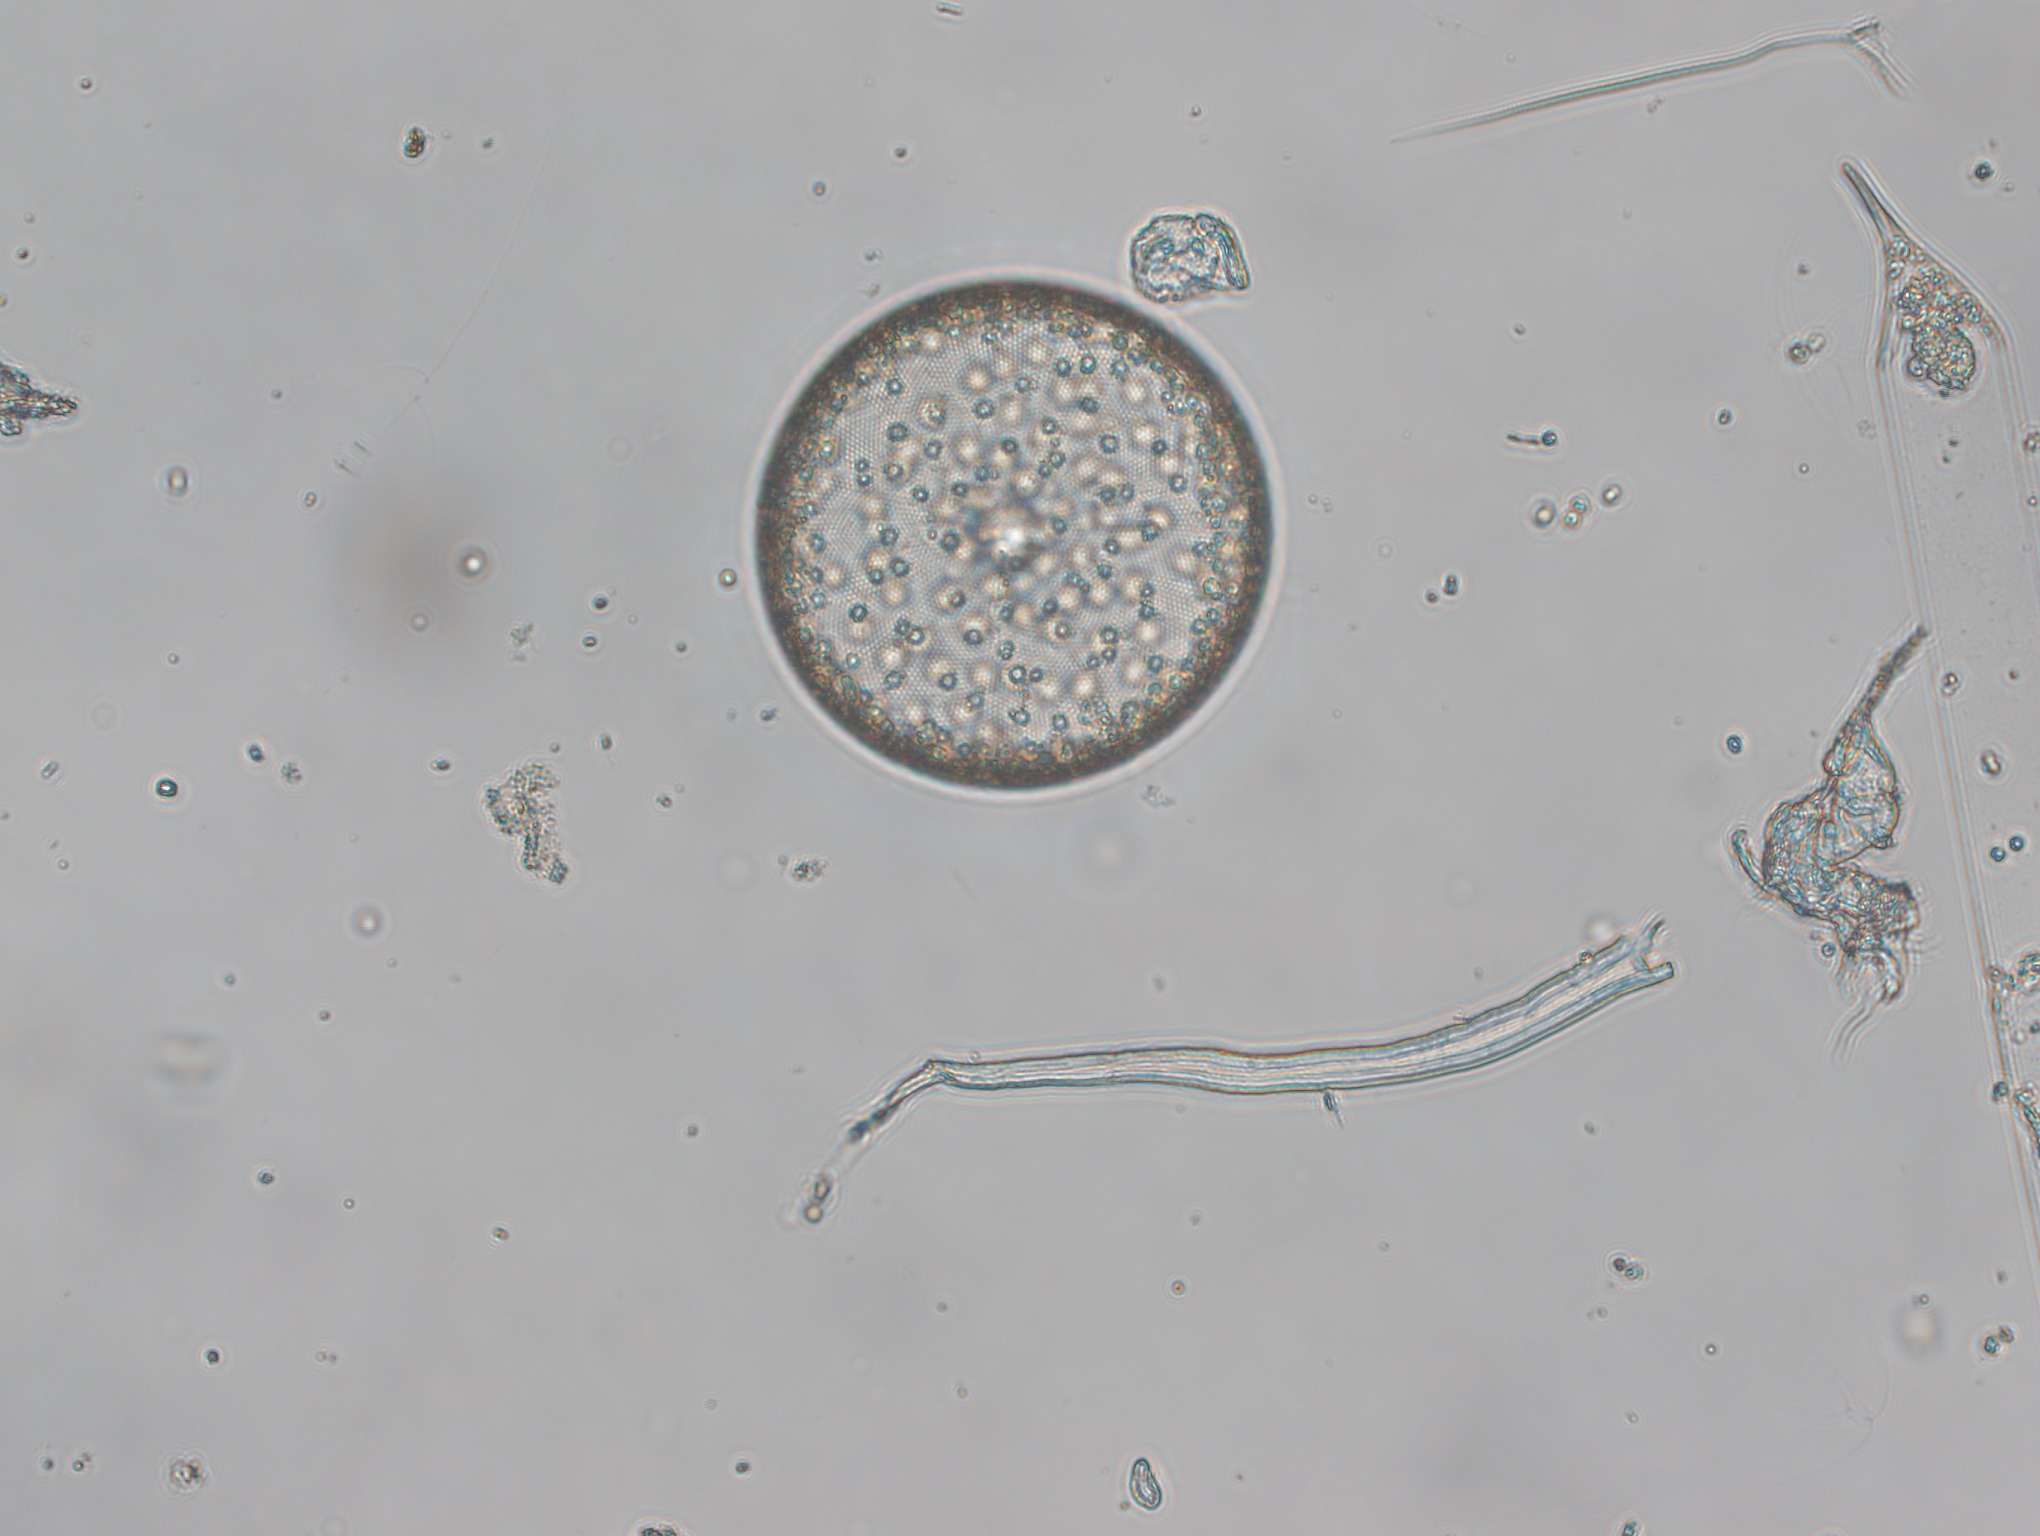coscinodiscus: (748, 268, 1277, 799)
rhizosolenia: (1835, 160, 2040, 1296)
